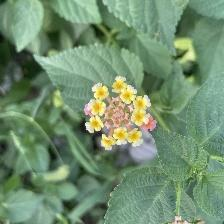common lanthana: (85, 73, 157, 153)
